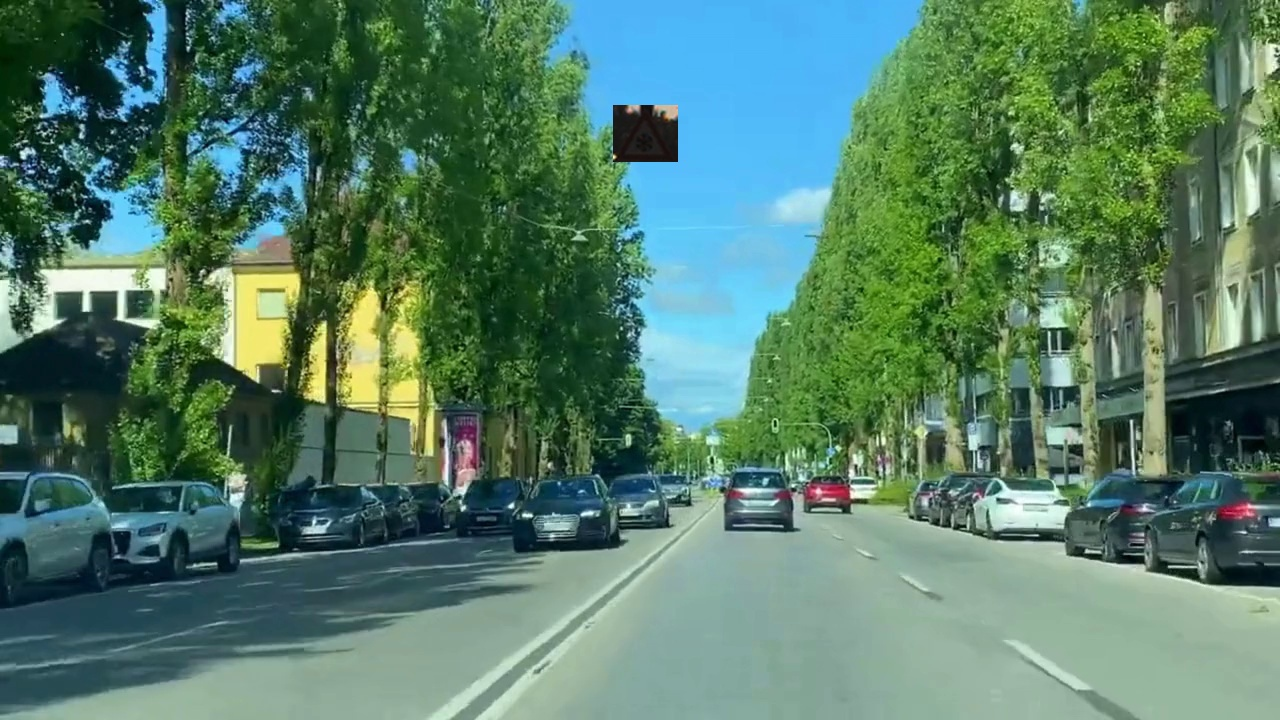Ice/snow: (613, 105, 678, 162)
